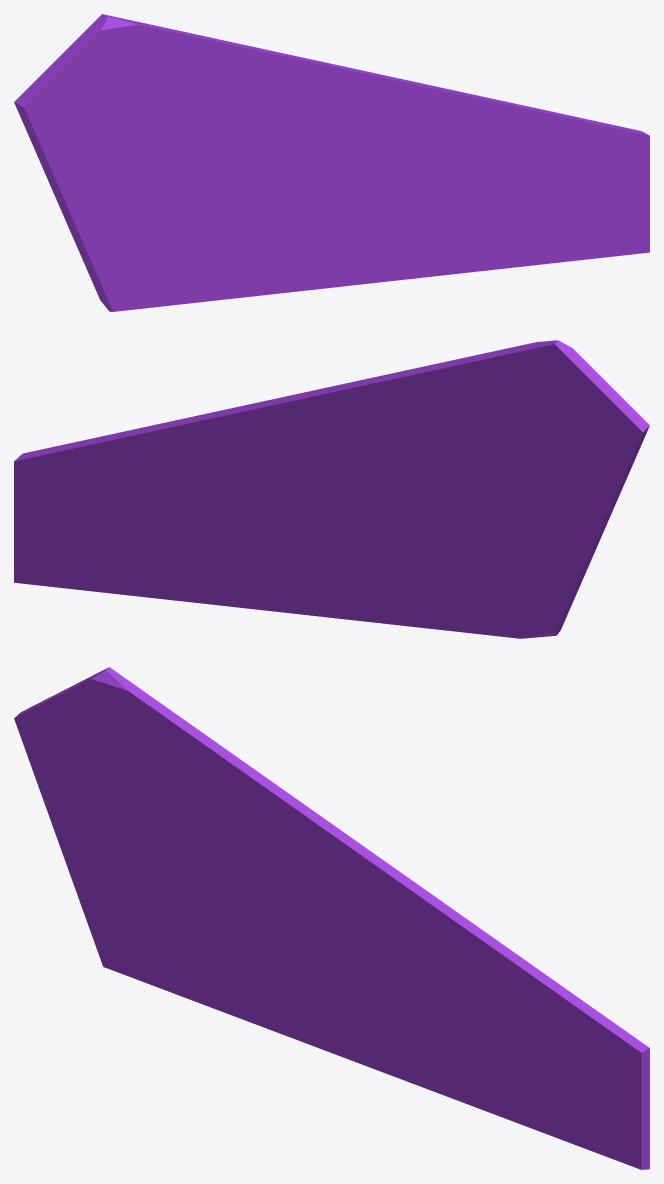
File: Glass_80_14_chunks.fbx
The picture shows the model from 3 angles, top to bottom: view 1: azimuth 30°, elevation 25°; view 2: azimuth 150°, elevation 25°; view 3: azimuth 330°, elevation 25°; orthographic projection.
Visible parts, largest first — view 1: Glass_80_14_4, Glass_80_14_0, Glass_80_14_5, Glass_80_14_8, Glass_80_14_2, Glass_80_14_6, Glass_80_14_9, Glass_80_14_7; view 2: Glass_80_14_4, Glass_80_14_0, Glass_80_14_5, Glass_80_14_8, Glass_80_14_2, Glass_80_14_9, Glass_80_14_6, Glass_80_14_3, Glass_80_14_7, Glass_80_14_1; view 3: Glass_80_14_4, Glass_80_14_0, Glass_80_14_5, Glass_80_14_8, Glass_80_14_2, Glass_80_14_6, Glass_80_14_9, Glass_80_14_7.
Part boxes in pixels (left/top/right/bottom): Glass_80_14_4: left=407, top=88, right=649, bottom=273; Glass_80_14_0: left=17, top=109, right=269, bottom=311; Glass_80_14_5: left=257, top=66, right=449, bottom=213; Glass_80_14_8: left=158, top=33, right=354, bottom=166; Glass_80_14_2: left=262, top=181, right=460, bottom=294; Glass_80_14_6: left=67, top=14, right=205, bottom=96; Glass_80_14_9: left=14, top=40, right=128, bottom=124; Glass_80_14_7: left=73, top=96, right=180, bottom=149; Glass_80_14_4: left=14, top=410, right=251, bottom=603; Glass_80_14_0: left=397, top=433, right=646, bottom=638; Glass_80_14_5: left=213, top=389, right=407, bottom=543; Glass_80_14_8: left=313, top=357, right=511, bottom=483; Glass_80_14_2: left=203, top=514, right=404, bottom=624; Glass_80_14_9: left=507, top=370, right=649, bottom=457; Glass_80_14_6: left=467, top=340, right=605, bottom=408; Glass_80_14_3: left=219, top=498, right=277, bottom=575; Glass_80_14_7: left=496, top=434, right=558, bottom=472; Glass_80_14_1: left=397, top=479, right=443, bottom=512; Glass_80_14_4: left=397, top=907, right=649, bottom=1169; Glass_80_14_0: left=17, top=727, right=259, bottom=1025; Glass_80_14_5: left=248, top=837, right=450, bottom=978; Glass_80_14_8: left=148, top=728, right=350, bottom=891; Glass_80_14_2: left=252, top=941, right=451, bottom=1097; Glass_80_14_6: left=57, top=667, right=196, bottom=772; Glass_80_14_9: left=14, top=681, right=118, bottom=759; Glass_80_14_7: left=63, top=759, right=170, bottom=836.
Bounding box in the file's own units: 1151 × 648 × 27.2.
